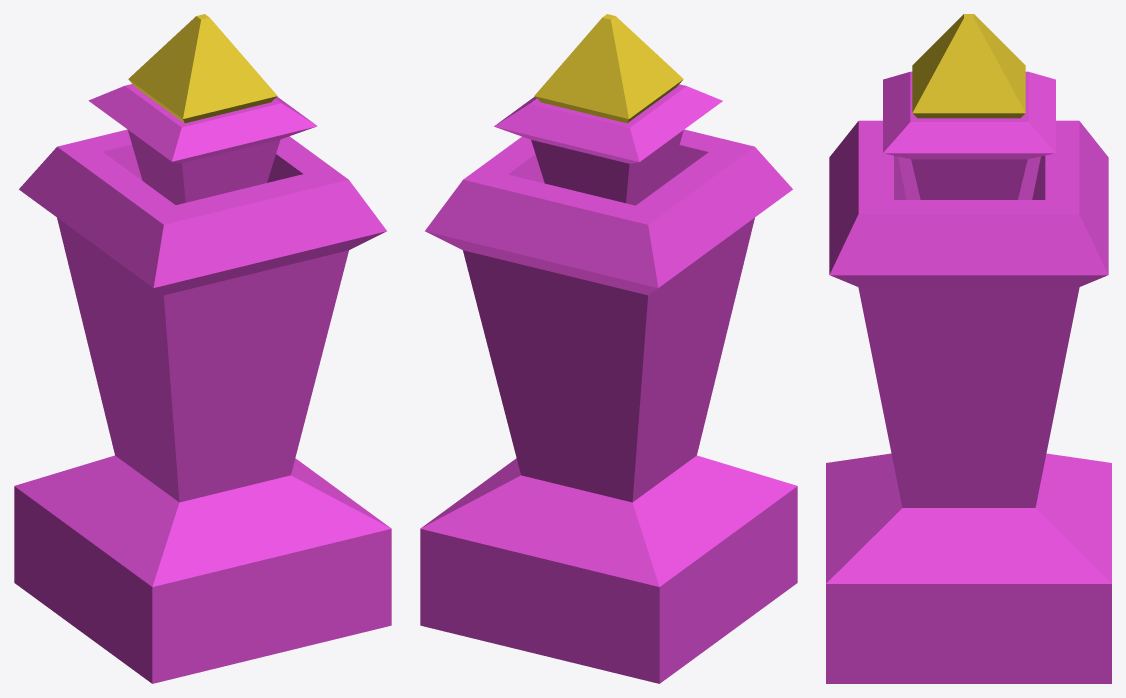
The model's file is lvl_1.fbx.
3 views of the same model, side by side, from view 1: azimuth 30°, elevation 25°; view 2: azimuth 150°, elevation 25°; view 3: azimuth 270°, elevation 25° (orthographic). The views are drawn at different scales.
Parts seen in each view (by area): view 1: Cube.001, Cube.003, Cube; view 2: Cube.001, Cube.003, Cube; view 3: Cube.001, Cube.003, Cube.
Boxes of the visible parts, x1=… form: Cube.001: x1=14, y1=129, x2=391, y2=683; Cube.003: x1=88, y1=84, x2=317, y2=204; Cube: x1=128, y1=14, x2=277, y2=123; Cube.001: x1=420, y1=129, x2=797, y2=683; Cube.003: x1=494, y1=84, x2=722, y2=205; Cube: x1=534, y1=14, x2=683, y2=123; Cube.001: x1=826, y1=120, x2=1111, y2=683; Cube.003: x1=883, y1=71, x2=1055, y2=199; Cube: x1=912, y1=14, x2=1025, y2=118.
Size of the model in its own units: 200 by 200 by 469.
